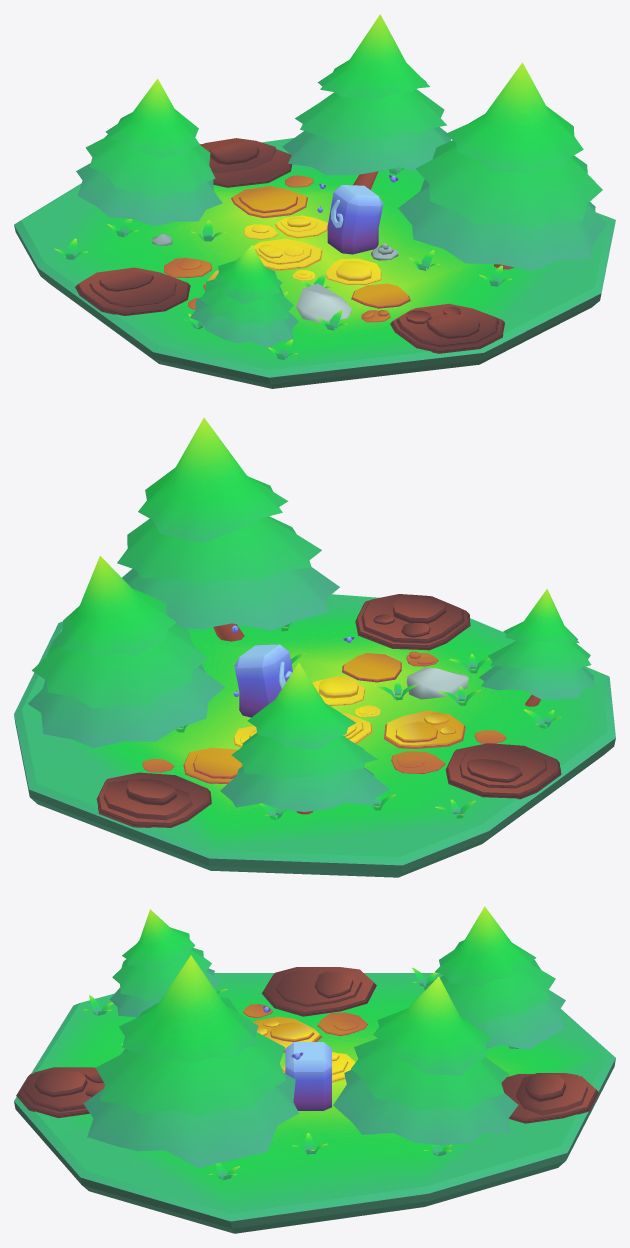
3 views of the same model, one above another, from view 1: azimuth 30°, elevation 25°; view 2: azimuth 150°, elevation 25°; view 3: azimuth 270°, elevation 25° (orthographic). The views are drawn at different scales.
Parts seen in each view (by area): view 1: Low_Poly_Island; view 2: Low_Poly_Island; view 3: Low_Poly_Island.
Boxes of the visible parts, <box> form: Low_Poly_Island: <box>14,14,615,388</box>; Low_Poly_Island: <box>14,417,615,877</box>; Low_Poly_Island: <box>14,906,615,1233</box>.
Size of the model in its own units: 19.94 by 8.46 by 20.46.
Materials: 1 (1 with a texture image).
